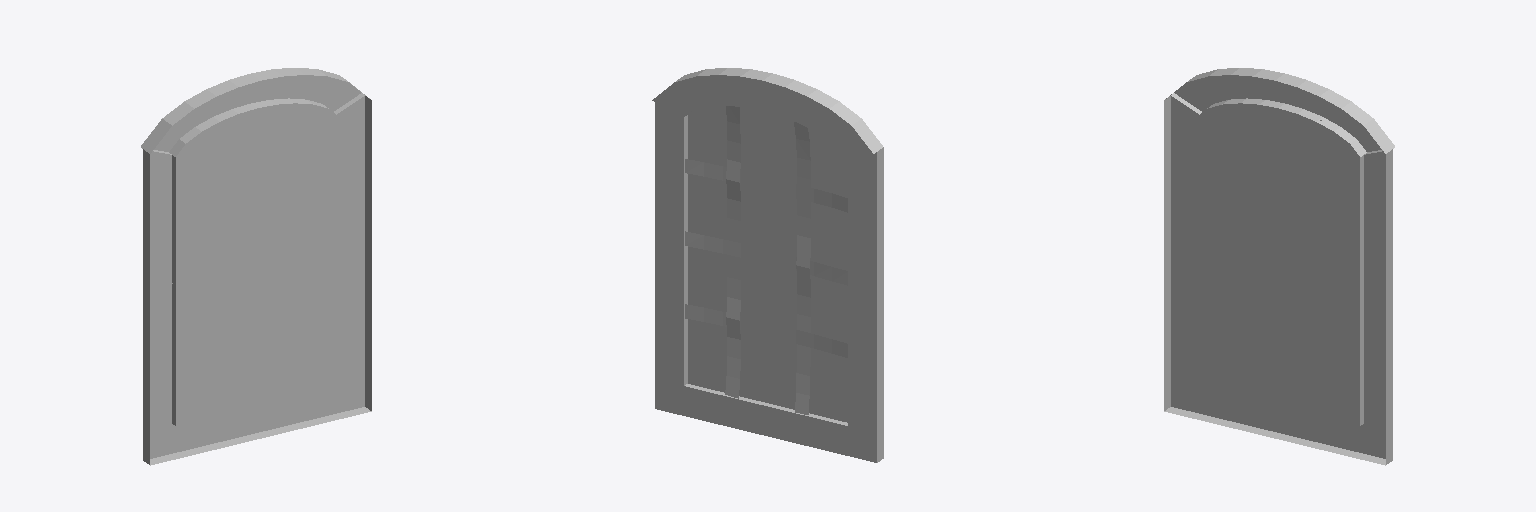
Rendered from window_F1.obj.
3 views of the same model, side by side, from view 1: azimuth 30°, elevation 25°; view 2: azimuth 150°, elevation 25°; view 3: azimuth 330°, elevation 25° (orthographic).
Visible parts, largest first — view 1: WindowF1; view 2: WindowF1; view 3: WindowF1.
Part boxes in pixels (x1,y1,x2,y2): WindowF1: (141,68,371,465); WindowF1: (652,68,883,462); WindowF1: (1164,68,1394,465).
Bounding box in the file's own units: 0.3822 × 0.5897 × 0.03.